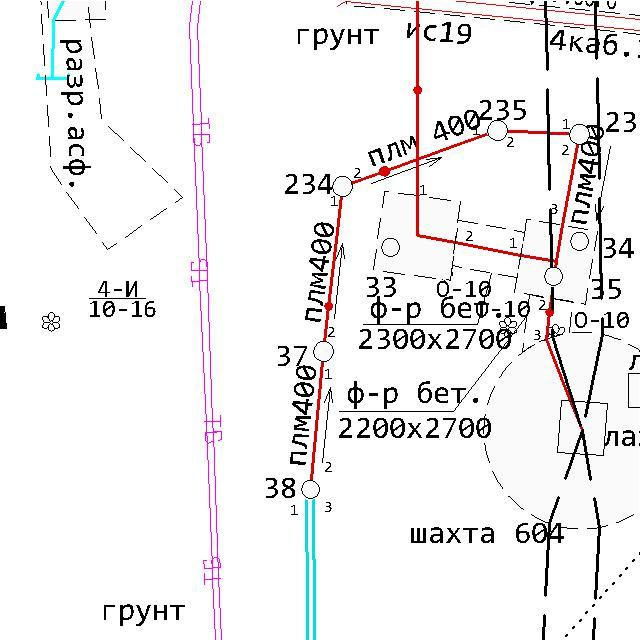bushes: (40, 310, 62, 333), (499, 316, 517, 338)
well: (567, 120, 592, 148), (329, 174, 355, 199), (311, 338, 336, 364), (485, 118, 510, 142), (379, 235, 402, 260), (298, 478, 322, 501), (542, 265, 565, 288), (569, 230, 591, 252)
